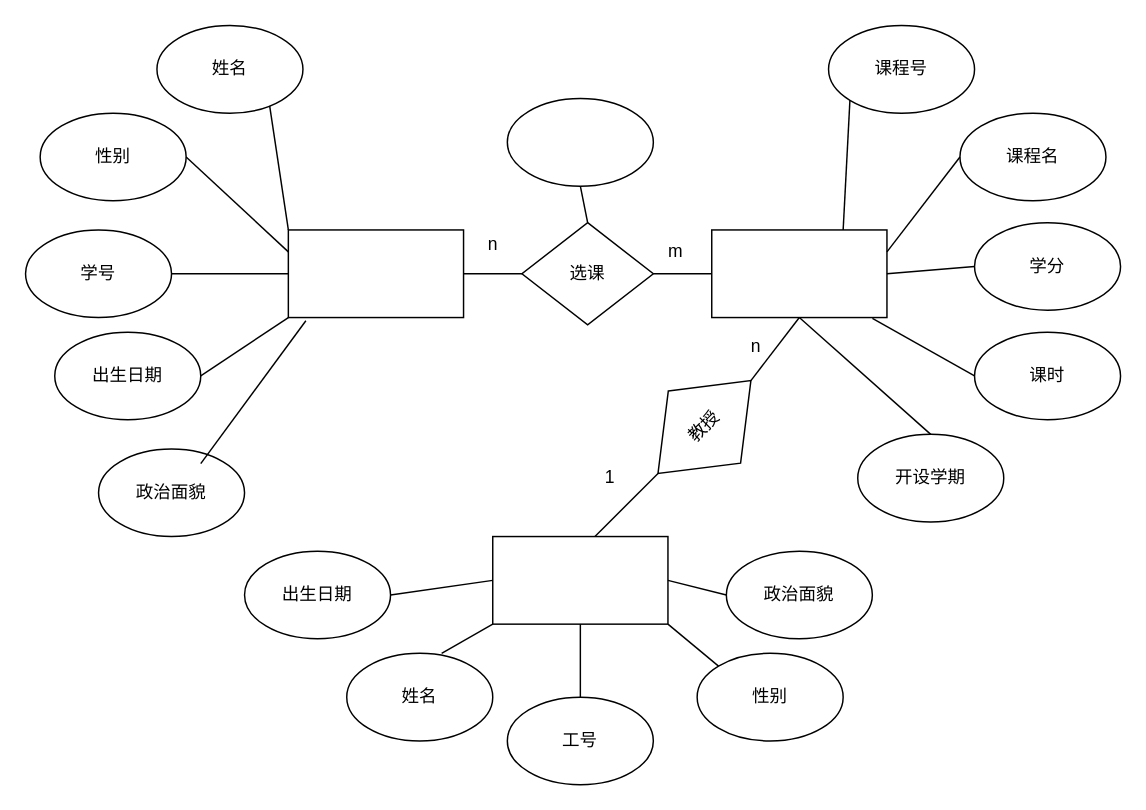
The diagram is 1146 pixels wide and 810 high, and some of its shapes have lost their labels. Each missing label, with the centre of its shape:
学生: (375,273)
成绩: (579,141)
老师: (579,579)
课程: (798,273)
